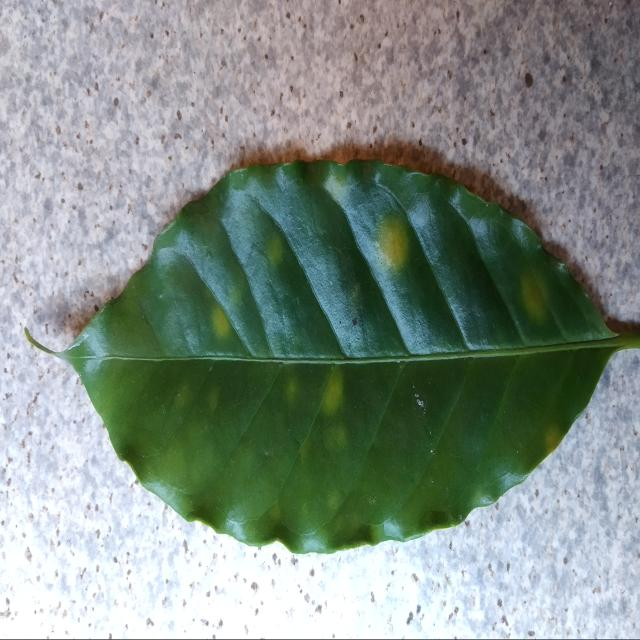Enfermedad-Roya: (53, 158, 640, 557)
